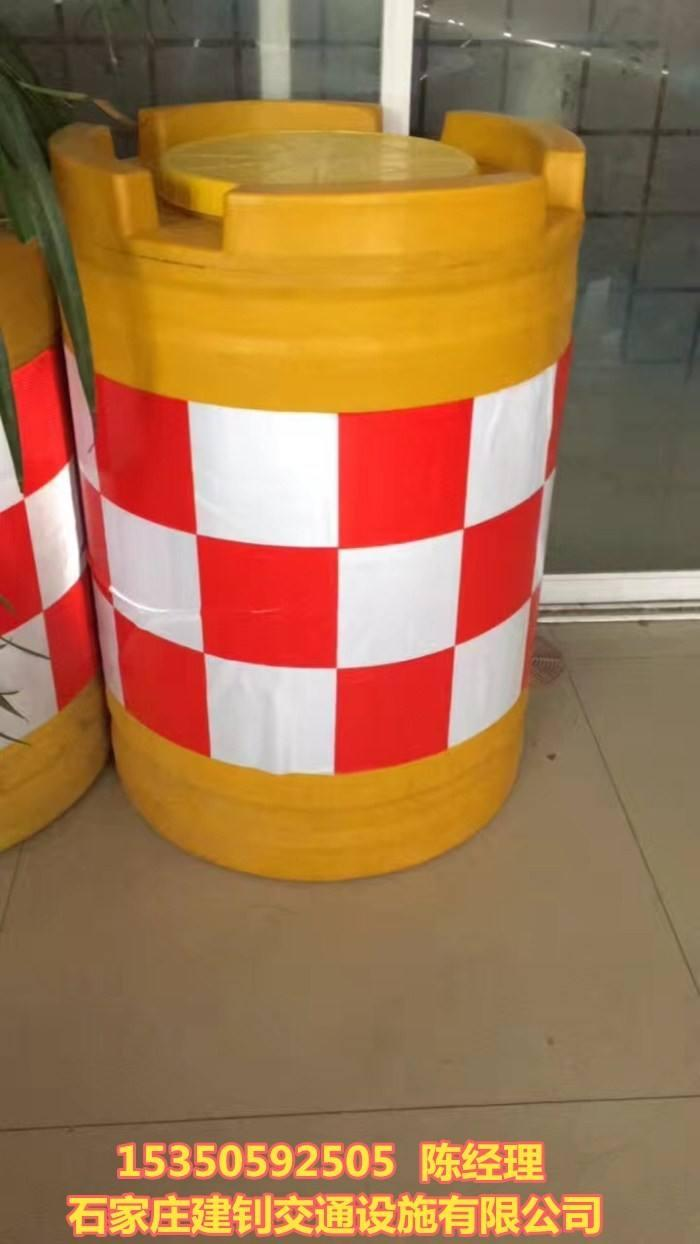sign: (40, 56, 577, 895)
